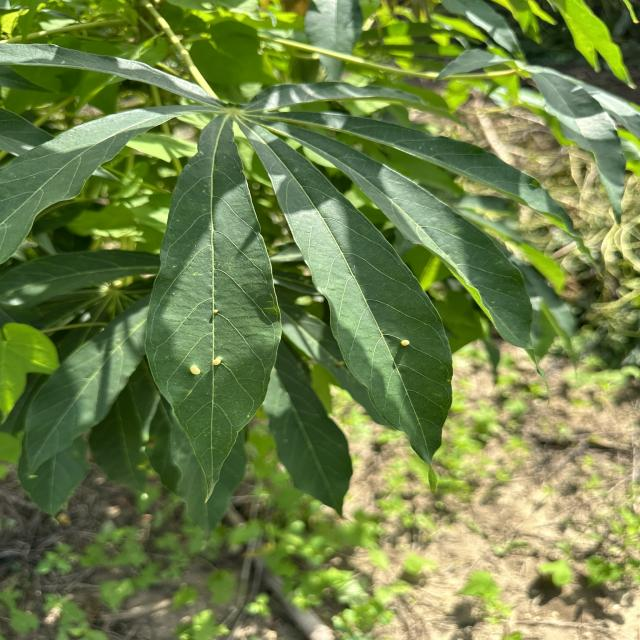Maleza: (0, 315, 64, 432)
Mosca: (182, 346, 232, 381), (395, 328, 422, 363)
